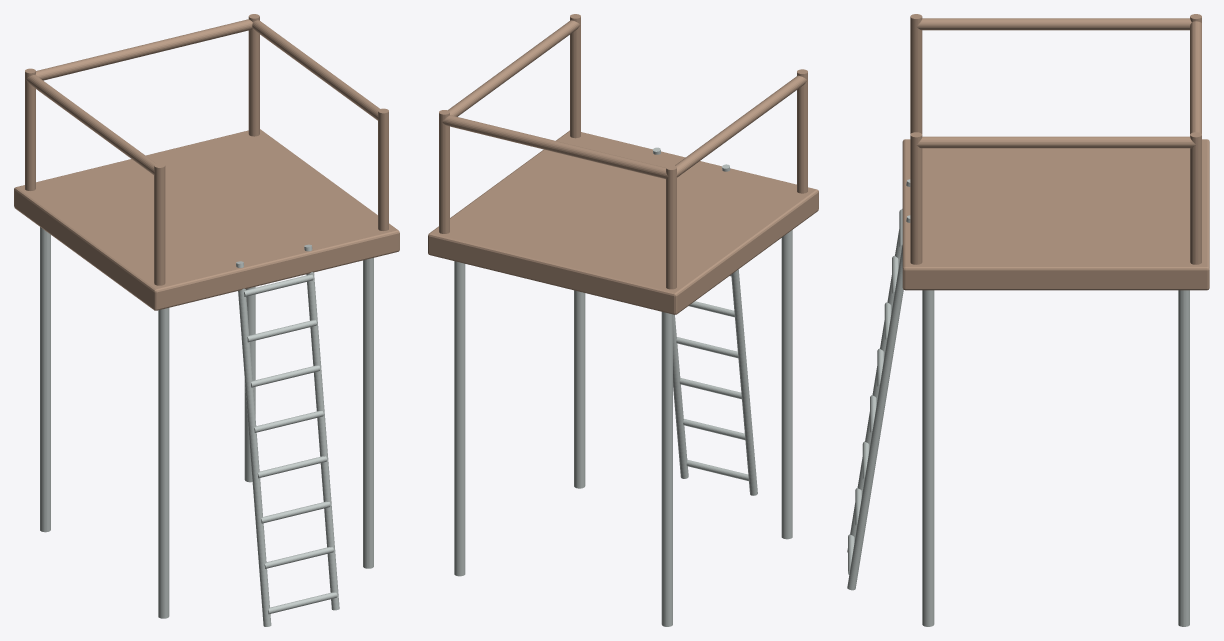
The picture shows the model from 3 angles, left to right: view 1: azimuth 30°, elevation 25°; view 2: azimuth 150°, elevation 25°; view 3: azimuth 270°, elevation 25°; orthographic projection. The views are drawn at different scales.
Visible parts, largest first — view 1: platform, support, support.002, support.001, ladder rail, ladder rail.001, back rail, side rail, side rail.001, rail post, rail post.003, rail post.002 (+2 smaller); view 2: platform, support.003, support.001, support, back rail, support.002, ladder rail, side rail, side rail.001, rail post.001, rail post.003, rail post (+2 smaller); view 3: platform, support.002, support.003, side rail.001, side rail, ladder rail.001, rail post.002, rail post.003, rail post, back rail, ladder rail.
Boxes of the visible parts, <box> form: platform: <box>14,129,399,310</box>; support: <box>158,308,169,618</box>; support.002: <box>363,258,373,568</box>; support.001: <box>40,227,50,532</box>; ladder rail: <box>236,261,271,626</box>; ladder rail.001: <box>304,244,339,610</box>; back rail: <box>35,19,252,80</box>; side rail: <box>25,75,155,174</box>; side rail.001: <box>252,20,379,120</box>; rail post: <box>154,163,165,285</box>; rail post.003: <box>248,14,259,136</box>; rail post.002: <box>378,108,388,230</box>; platform: <box>428,130,818,314</box>; support.003: <box>454,261,465,576</box>; support.001: <box>661,312,672,626</box>; support: <box>781,230,792,539</box>; back rail: <box>442,115,668,179</box>; support.002: <box>574,290,585,488</box>; ladder rail: <box>722,164,757,495</box>; side rail: <box>675,75,807,177</box>; side rail.001: <box>448,20,579,116</box>; rail post.001: <box>666,165,676,289</box>; rail post.003: <box>439,110,449,233</box>; rail post: <box>797,69,807,193</box>; platform: <box>902,139,1209,290</box>; support.002: <box>922,290,934,626</box>; support.003: <box>1178,290,1189,626</box>; side rail.001: <box>916,136,1195,148</box>; side rail: <box>916,18,1191,30</box>; ladder rail.001: <box>847,215,910,590</box>; rail post.002: <box>910,132,922,264</box>; rail post.003: <box>1190,132,1201,264</box>; rail post: <box>910,14,922,133</box>; back rail: <box>1190,21,1201,134</box>; ladder rail: <box>847,179,910,552</box>.
Size of the model in its own units: 1.8 by 3.2 by 2.12.
